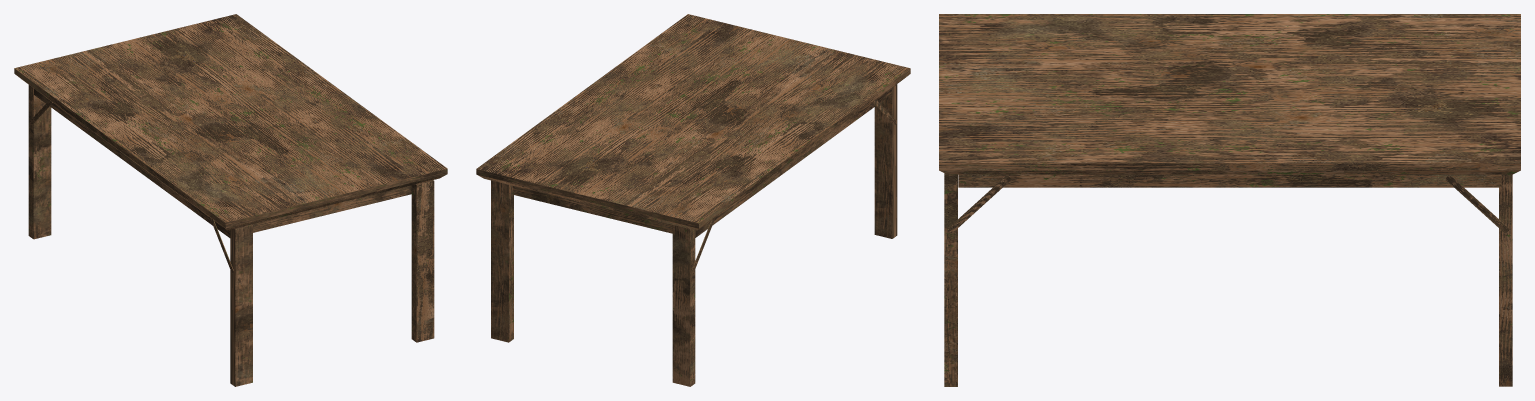
The model's file is m_worktable.fbx.
3 views of the same model, side by side, from view 1: azimuth 30°, elevation 25°; view 2: azimuth 150°, elevation 25°; view 3: azimuth 270°, elevation 25° (orthographic). The views are drawn at different scales.
Visible parts, largest first — view 1: worktable; view 2: worktable; view 3: worktable.
Part boxes in pixels (<box>): worktable: <box>14,14,447,386</box>; worktable: <box>476,14,910,386</box>; worktable: <box>939,14,1520,386</box>.
Bounding box in the file's own units: 330 × 239 × 543.
